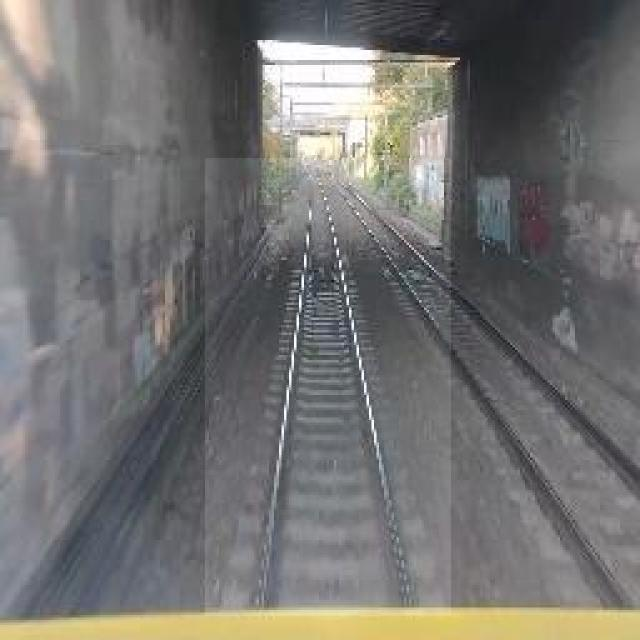rail: (207, 159, 452, 617)
